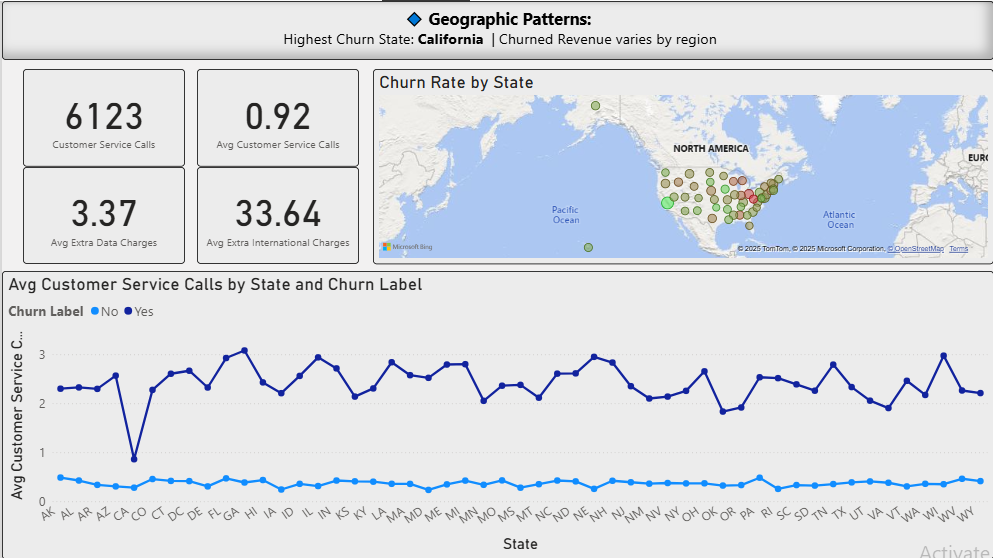

The dashboard page shown, as its layout file describes it:
{"tool":"powerbi","page":{"name":"Geographic Churn Patterns","canvas":[1280,720],"ordinal":5},"visuals":[{"type":"card","fields":{"Values":["Sum(Databel - Data.Customer Service Calls)"]},"box":[27.1,87.7,209,126.5],"z":0},{"type":"card","fields":{"Values":["Databel - Data.Avg Customer Service Calls"]},"box":[251.6,87.7,209,126.5],"z":1000},{"type":"card","fields":{"Values":["Databel - Data.Avg Extra International Charges"]},"box":[251.6,214.2,209,125.2],"z":2000},{"type":"card","fields":{"Values":["Databel - Data.Avg Extra Data Charges"]},"box":[27.1,214.2,209,125.2],"z":3000},{"type":"lineChart","fields":{"Category":["Databel - Data.State"],"Y":["Databel - Data.Avg Customer Service Calls"],"Series":["Databel - Data.Churn Label"]},"box":[0,348.4,1280,371.6],"z":4000},{"type":"map","fields":{"Category":["Databel - Data.State"],"Size":["Databel - Data.Churn Rate"]},"box":[478.7,87.7,801.3,251.6],"z":5000},{"type":"textbox","box":[0,0,1280.2,76.3],"z":6000}]}

Visuals, with their boxes in screenshot pixels (x1, y1, x2, y2), scaled from the page's 1280x720 canvas onto the 993x558 screenshot:
card - Sum(Databel - Data.Customer Service Calls): left=21, top=68, right=183, bottom=166
card - Databel - Data.Avg Customer Service Calls: left=195, top=68, right=357, bottom=166
card - Databel - Data.Avg Extra International Charges: left=195, top=166, right=357, bottom=263
card - Databel - Data.Avg Extra Data Charges: left=21, top=166, right=183, bottom=263
lineChart - Databel - Data.State x Databel - Data.Avg Customer Service Calls: left=0, top=270, right=992, bottom=557
map - Databel - Data.State x Databel - Data.Churn Rate: left=371, top=68, right=992, bottom=263
textbox: left=0, top=0, right=992, bottom=59
